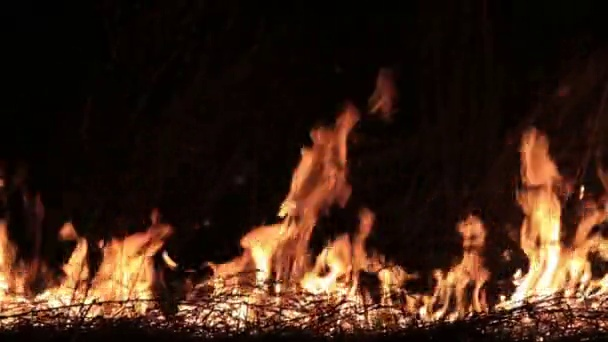fire: (202, 125, 402, 327), (502, 131, 608, 311), (41, 226, 163, 315), (421, 220, 488, 322), (1, 230, 25, 316)
